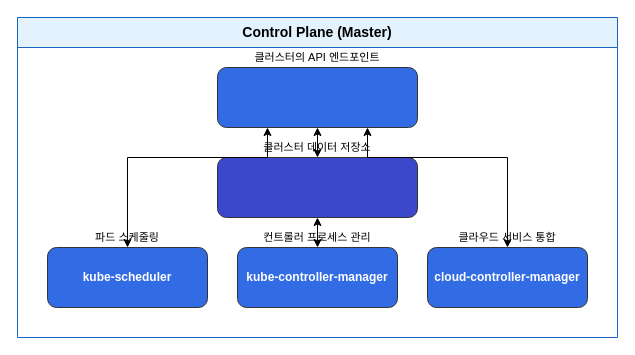
Some shapes in this 635 by 355 pixel diagram are drawn without their labels. The centre of each missing label's shape, as x and y in pixels:
etcd (저장소): the point at 317,187
kube-apiserver: the point at 317,97
